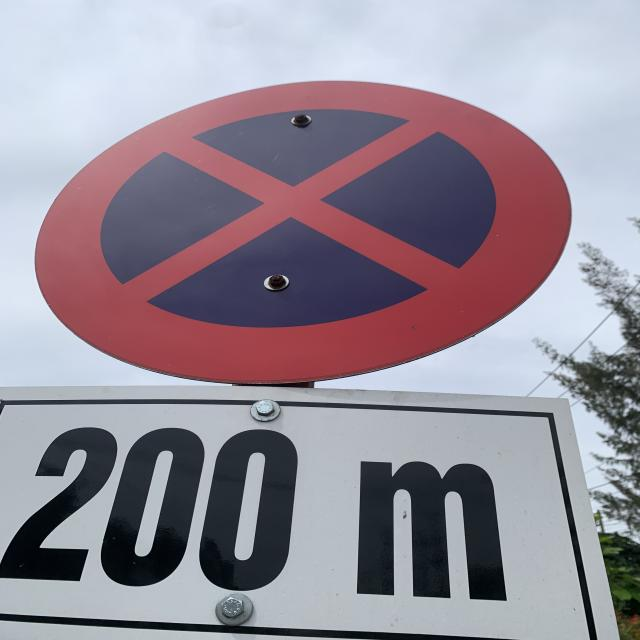Cam_Dung_Va_Dau_Xe: (33, 79, 573, 384)
